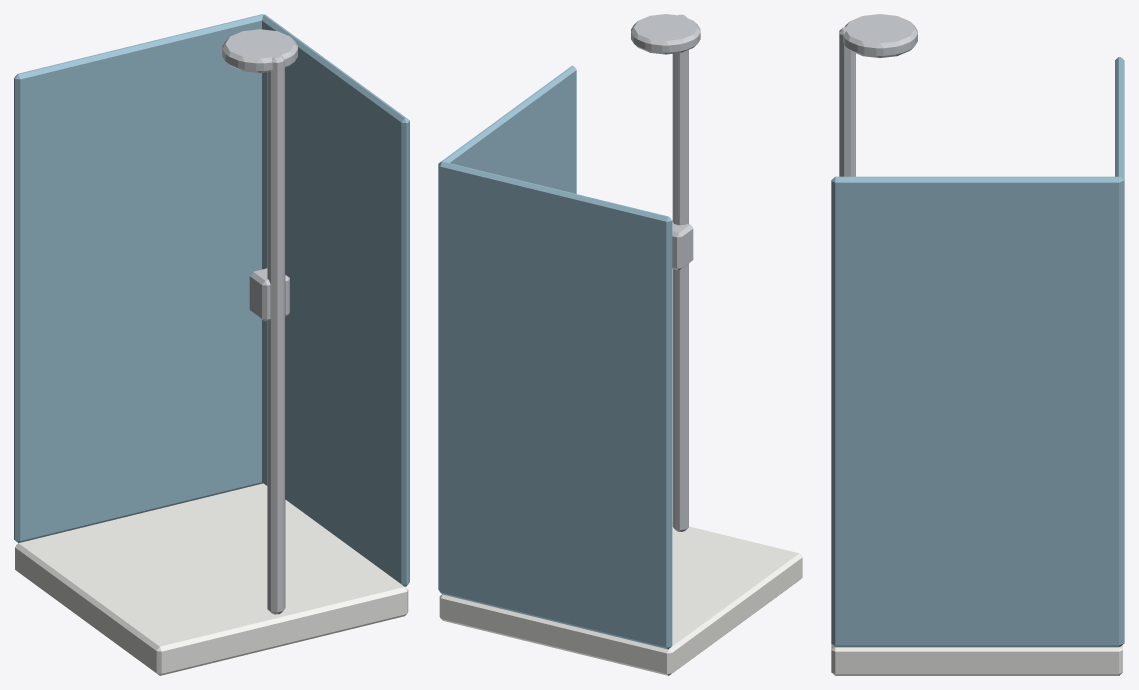
3 renders of one model, left to right at view 1: azimuth 30°, elevation 25°; view 2: azimuth 150°, elevation 25°; view 3: azimuth 270°, elevation 25°, orthographic. The views are drawn at different scales.
Visible parts, largest first — view 1: 玻璃隔断, 底盘.001, 立柱.001, 花洒头, 混水阀; view 2: 玻璃隔断, 底盘.001, 立柱.001, 花洒头, 混水阀; view 3: 玻璃隔断, 底盘.001, 花洒头, 立柱.001.
Part boxes in pixels (x1,y1,x2,y2): 玻璃隔断: [14, 14, 409, 586]; 底盘.001: [15, 483, 408, 675]; 立柱.001: [267, 53, 285, 614]; 花洒头: [222, 29, 297, 73]; 混水阀: [249, 268, 289, 321]; 玻璃隔断: [438, 65, 672, 649]; 底盘.001: [439, 522, 802, 675]; 立柱.001: [672, 14, 688, 531]; 花洒头: [631, 14, 700, 54]; 混水阀: [672, 220, 693, 270]; 玻璃隔断: [831, 57, 1124, 647]; 底盘.001: [831, 644, 1122, 675]; 花洒头: [843, 14, 917, 57]; 立柱.001: [839, 26, 855, 176].
Bounding box in the file's own units: 90.5 × 200 × 90.5.
